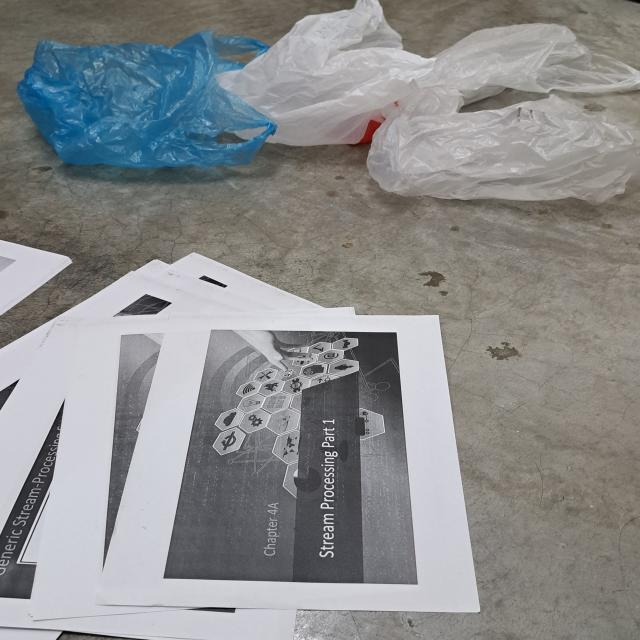paper: (0, 251, 480, 640)
plastic bag: (22, 31, 280, 166), (219, 0, 457, 146), (369, 94, 640, 200), (408, 22, 640, 110)
